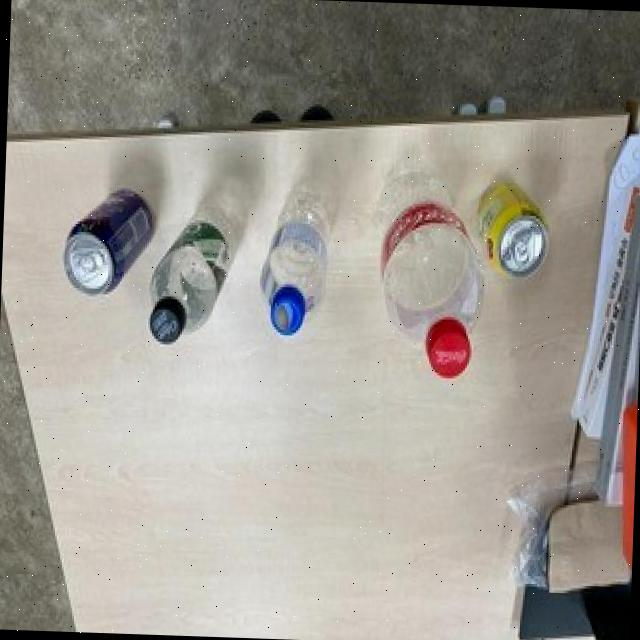bottle: (367, 151, 491, 385), (144, 160, 250, 354), (254, 163, 336, 342)
cap: (421, 317, 470, 379), (264, 286, 310, 336), (144, 296, 191, 344)
